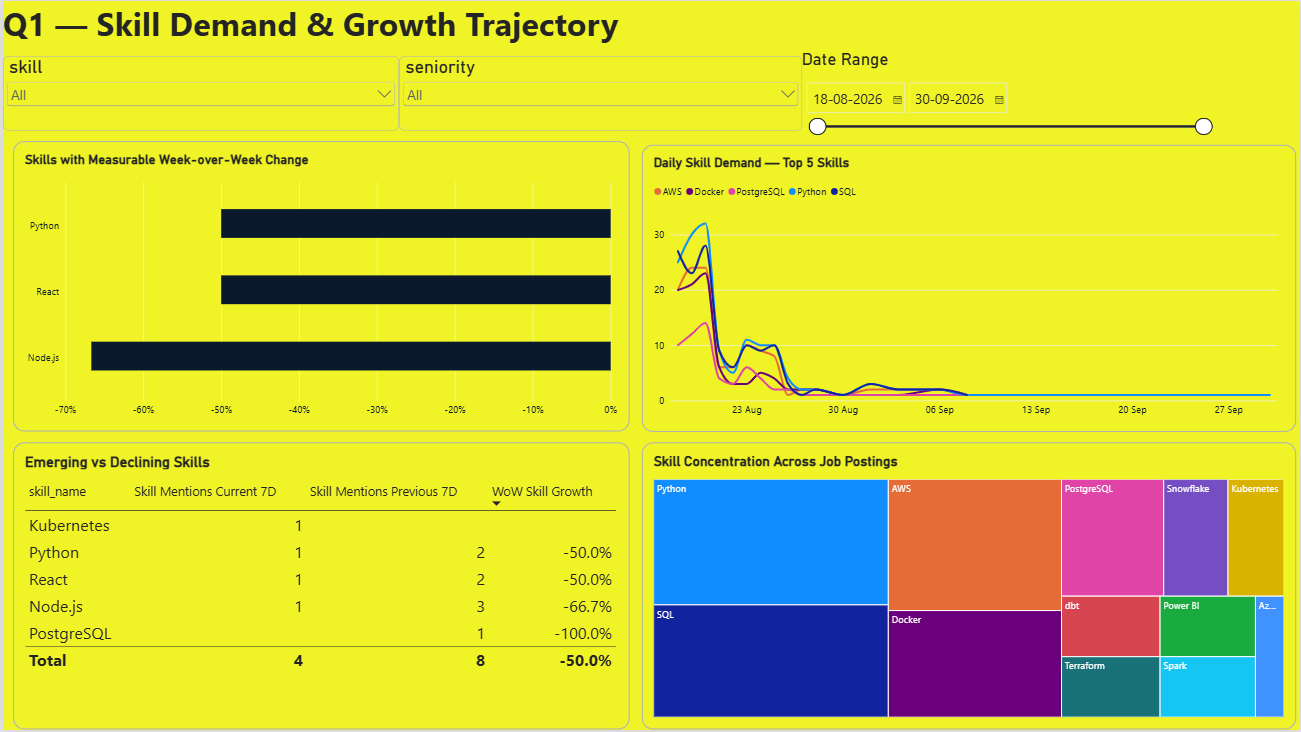

This screenshot's page, from the dashboard's own definition file:
{"tool":"powerbi","page":{"name":"Skill Trends","canvas":[1920,1080],"ordinal":1},"visuals":[{"type":"textbox","box":[0,0,928,80],"z":0},{"type":"slicer","fields":{"Values":["job_skills_bridge.skill_name"]},"box":[0,81.4,586.3,110.4],"z":1},{"type":"slicer","fields":{"Values":["fact_jobs.seniority_level"]},"box":[586.3,81.4,597.2,110.4],"z":2},{"type":"slicer","title":"Date Range","fields":{"Values":["Date.Date"]},"box":[1183.5,72.4,611.7,132.1],"z":3},{"type":"clusteredBarChart","title":"Skills with Measurable Week-over-Week Change","fields":{"Category":["job_skills_bridge.skill_name"],"Y":["fact_jobs.WoW Skill Growth"]},"box":[14.5,208.1,913.9,430.7],"z":4},{"type":"lineChart","title":"Daily Skill Demand — Top 5 Skills","fields":{"Category":["Date.Date"],"Series":["job_skills_bridge.skill_name"],"Y":["fact_jobs.Skill Mentions"]},"box":[946.5,213.5,970,425.3],"z":5},{"type":"tableEx","title":"Emerging vs Declining Skills","fields":{"Values":["job_skills_bridge.skill_name","fact_jobs.Skill Mentions Current 7D","fact_jobs.Skill Mentions Previous 7D","fact_jobs.WoW Skill Growth"]},"box":[14.5,653.3,913.9,425.3],"z":6},{"type":"treemap","title":"Skill Concentration Across Job Postings","fields":{"Group":["job_skills_bridge.skill_name"],"Values":["fact_jobs.Total Jobs"]},"box":[946.5,653.3,970,425.3],"z":7}]}

Visuals, with their boxes in screenshot pixels (x1, y1, x2, y2), scaled from the page's 1920x1080 canvas onto the 1301x732 screenshot:
textbox: crop(0, 0, 629, 54)
slicer - job_skills_bridge.skill_name: crop(0, 55, 397, 130)
slicer - fact_jobs.seniority_level: crop(397, 55, 802, 130)
"Date Range" slicer: crop(802, 49, 1216, 139)
"Skills with Measurable Week-over-Week Change" clusteredBarChart: crop(10, 141, 629, 433)
"Daily Skill Demand — Top 5 Skills" lineChart: crop(641, 145, 1299, 433)
"Emerging vs Declining Skills" tableEx: crop(10, 443, 629, 731)
"Skill Concentration Across Job Postings" treemap: crop(641, 443, 1299, 731)
